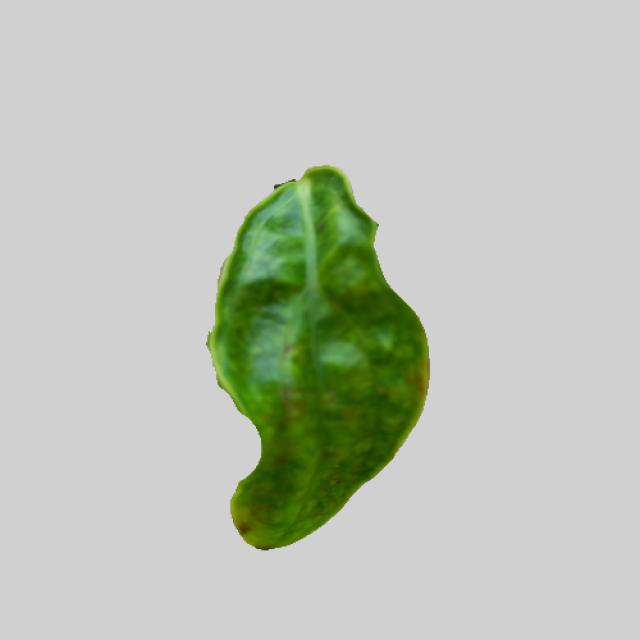yellow-mottle-virus: (195, 161, 430, 549)
